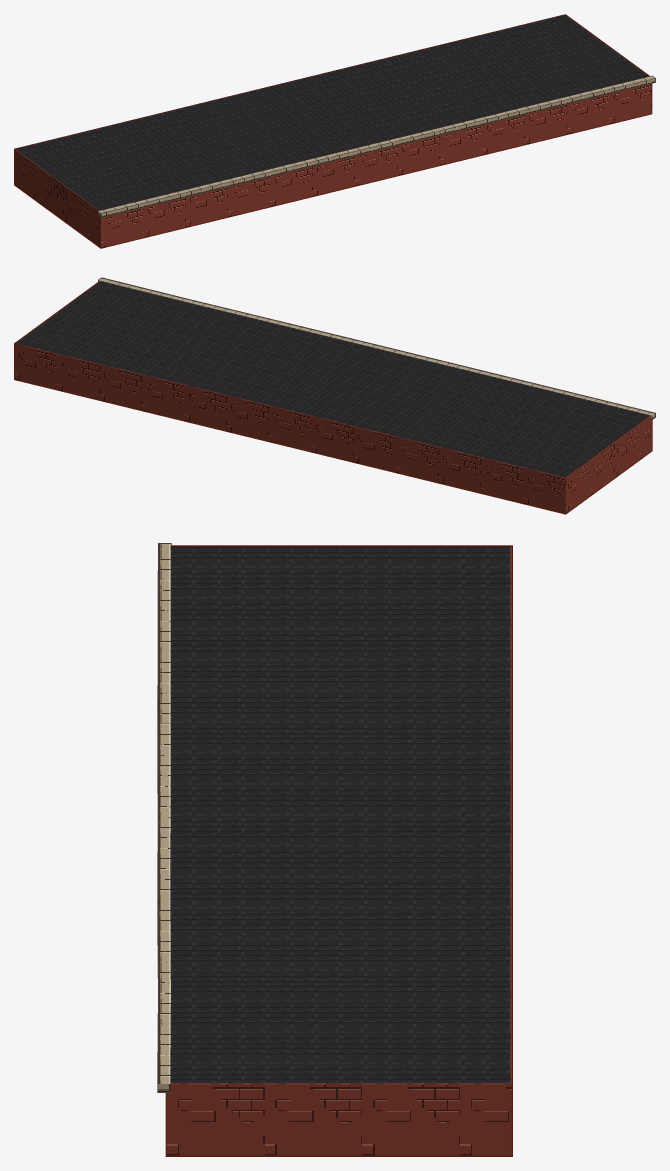
Rendered from Block_4.glb.
3 views of the same model, one above another, from view 1: azimuth 30°, elevation 25°; view 2: azimuth 150°, elevation 25°; view 3: azimuth 270°, elevation 25° (orthographic). The views are drawn at different scales.
Parts seen in each view (by area): view 1: Block_4; view 2: Block_4; view 3: Block_4.
Boxes of the visible parts, x1,y1,x2,y2 form: Block_4: (14,14,655,248); Block_4: (14,277,655,514); Block_4: (157,543,512,1156).
Size of the model in its own units: 52.37 by 3.37 by 14.54.
Materials: 5 (3 with a texture image).
